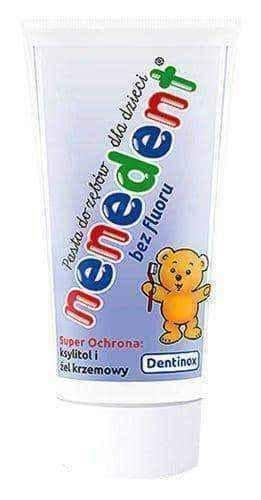toothpaste: (19, 5, 232, 479)
